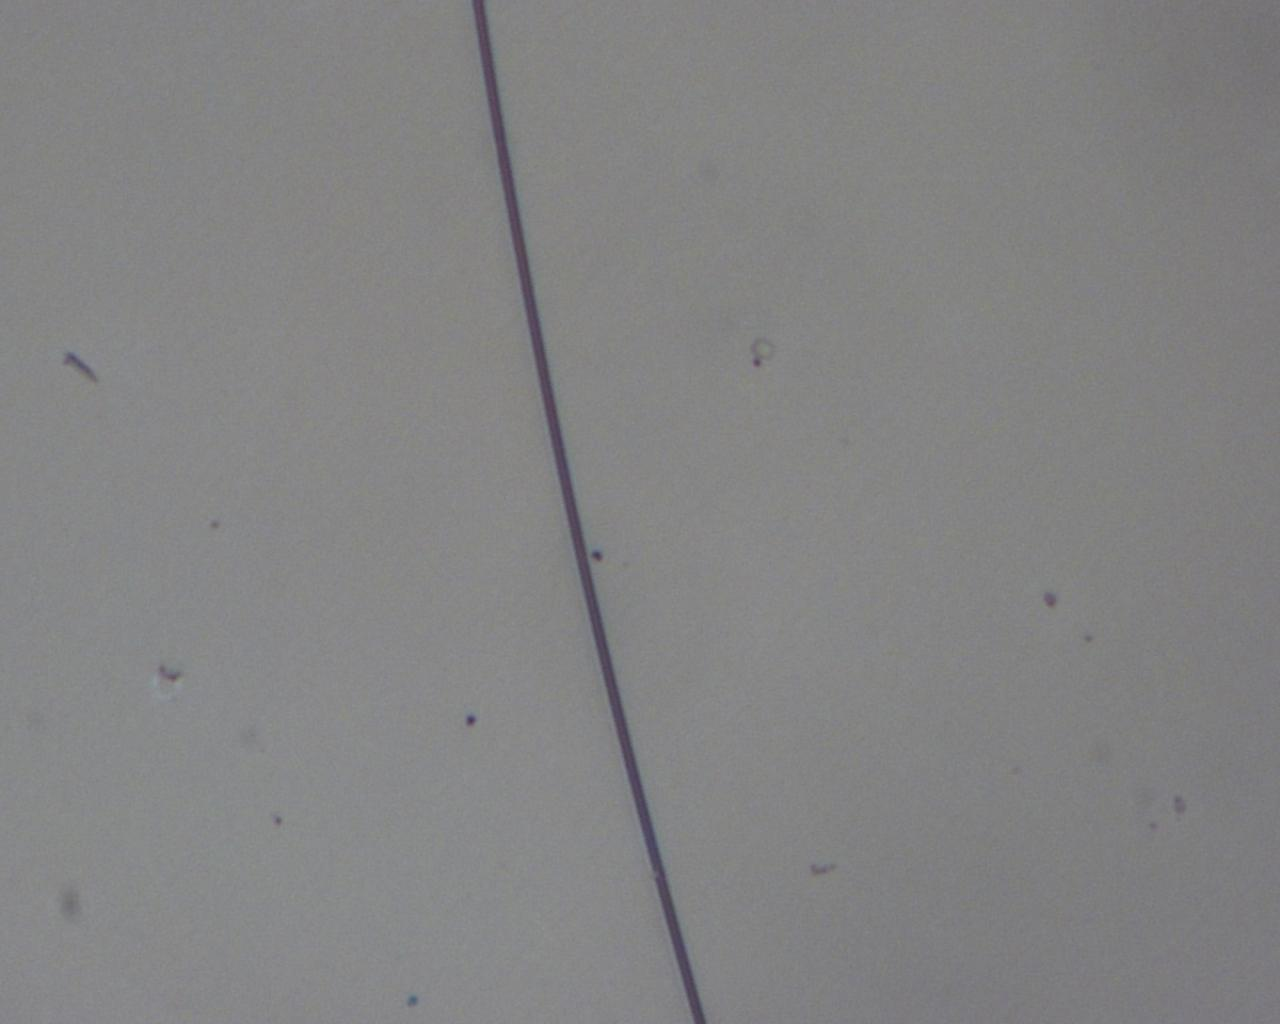fiber: (469, 0, 709, 1024)
